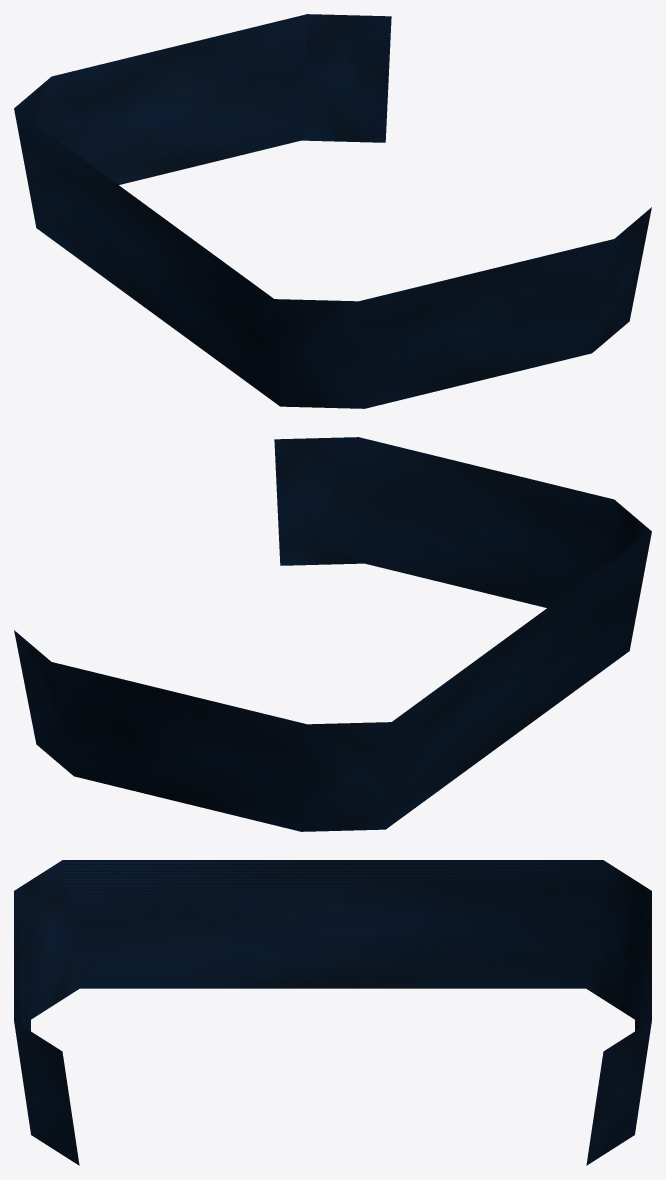
File: czt_a0101.FBX
3 views of the same model, one above another, from view 1: azimuth 30°, elevation 25°; view 2: azimuth 150°, elevation 25°; view 3: azimuth 270°, elevation 25° (orthographic). The views are drawn at different scales.
Visible parts, largest first — view 1: czt_a0101; view 2: czt_a0101; view 3: czt_a0101.
Boxes of the visible parts, x1,y1,x2,y2 form: czt_a0101: [14, 14, 651, 408]; czt_a0101: [14, 437, 651, 831]; czt_a0101: [14, 860, 651, 1165].
Size of the model in its own units: 2.65 by 0.7853 by 3.73.
